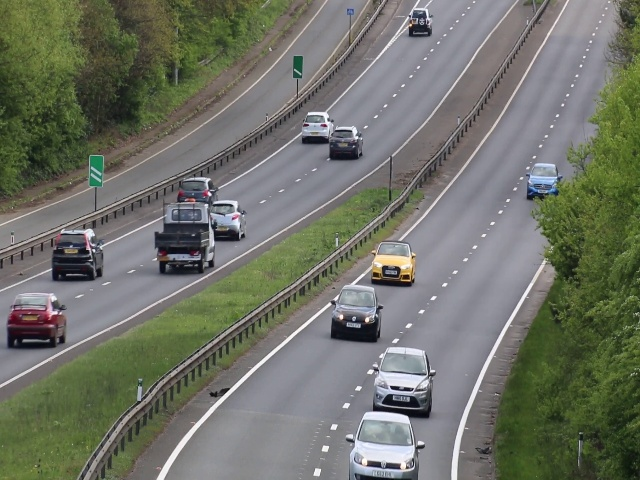car: (349, 411, 418, 480), (151, 202, 216, 273), (373, 346, 434, 411), (5, 291, 71, 350), (331, 284, 382, 343), (50, 229, 105, 281), (372, 238, 414, 285), (214, 199, 248, 241), (527, 162, 559, 199), (330, 125, 362, 160), (301, 110, 334, 143), (177, 176, 215, 202), (408, 8, 433, 36)
